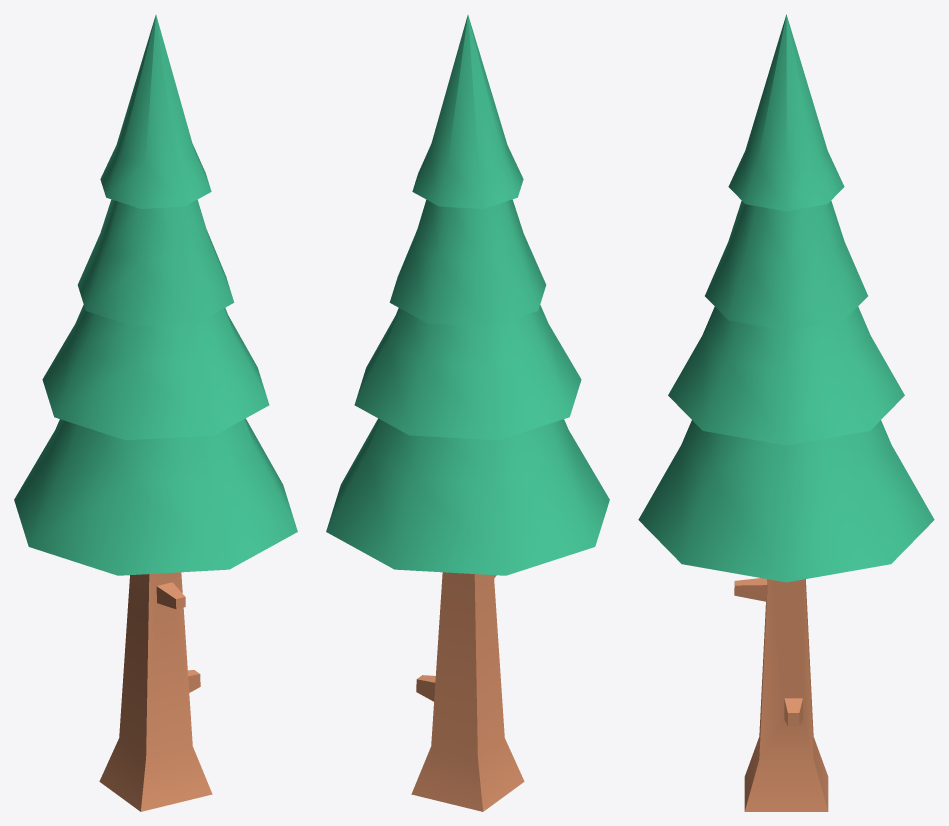
File: treeHigh.dae
3 views of the same model, side by side, from view 1: azimuth 30°, elevation 25°; view 2: azimuth 150°, elevation 25°; view 3: azimuth 270°, elevation 25° (orthographic).
Visible parts, largest first — view 1: treeHigh; view 2: treeHigh; view 3: treeHigh.
Part boxes in pixels (x1=…): treeHigh: x1=14, y1=15, x2=297, y2=811; treeHigh: x1=326, y1=15, x2=609, y2=811; treeHigh: x1=638, y1=14, x2=934, y2=811.
Bounding box in the file's own units: 1.02 × 2.97 × 1.02.
